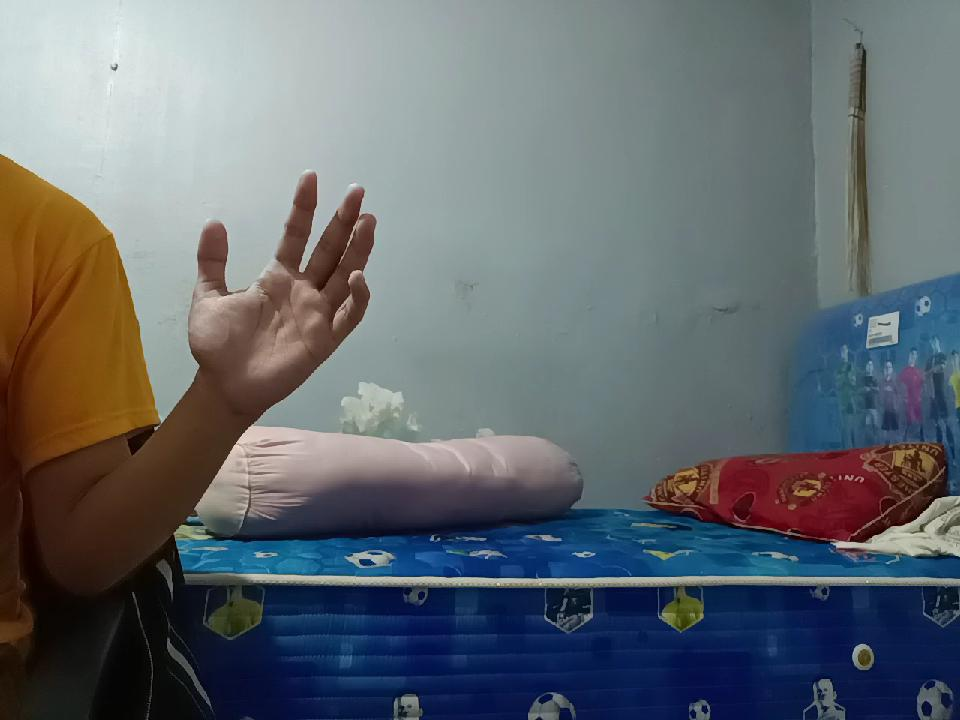paper: (178, 169, 388, 403)
